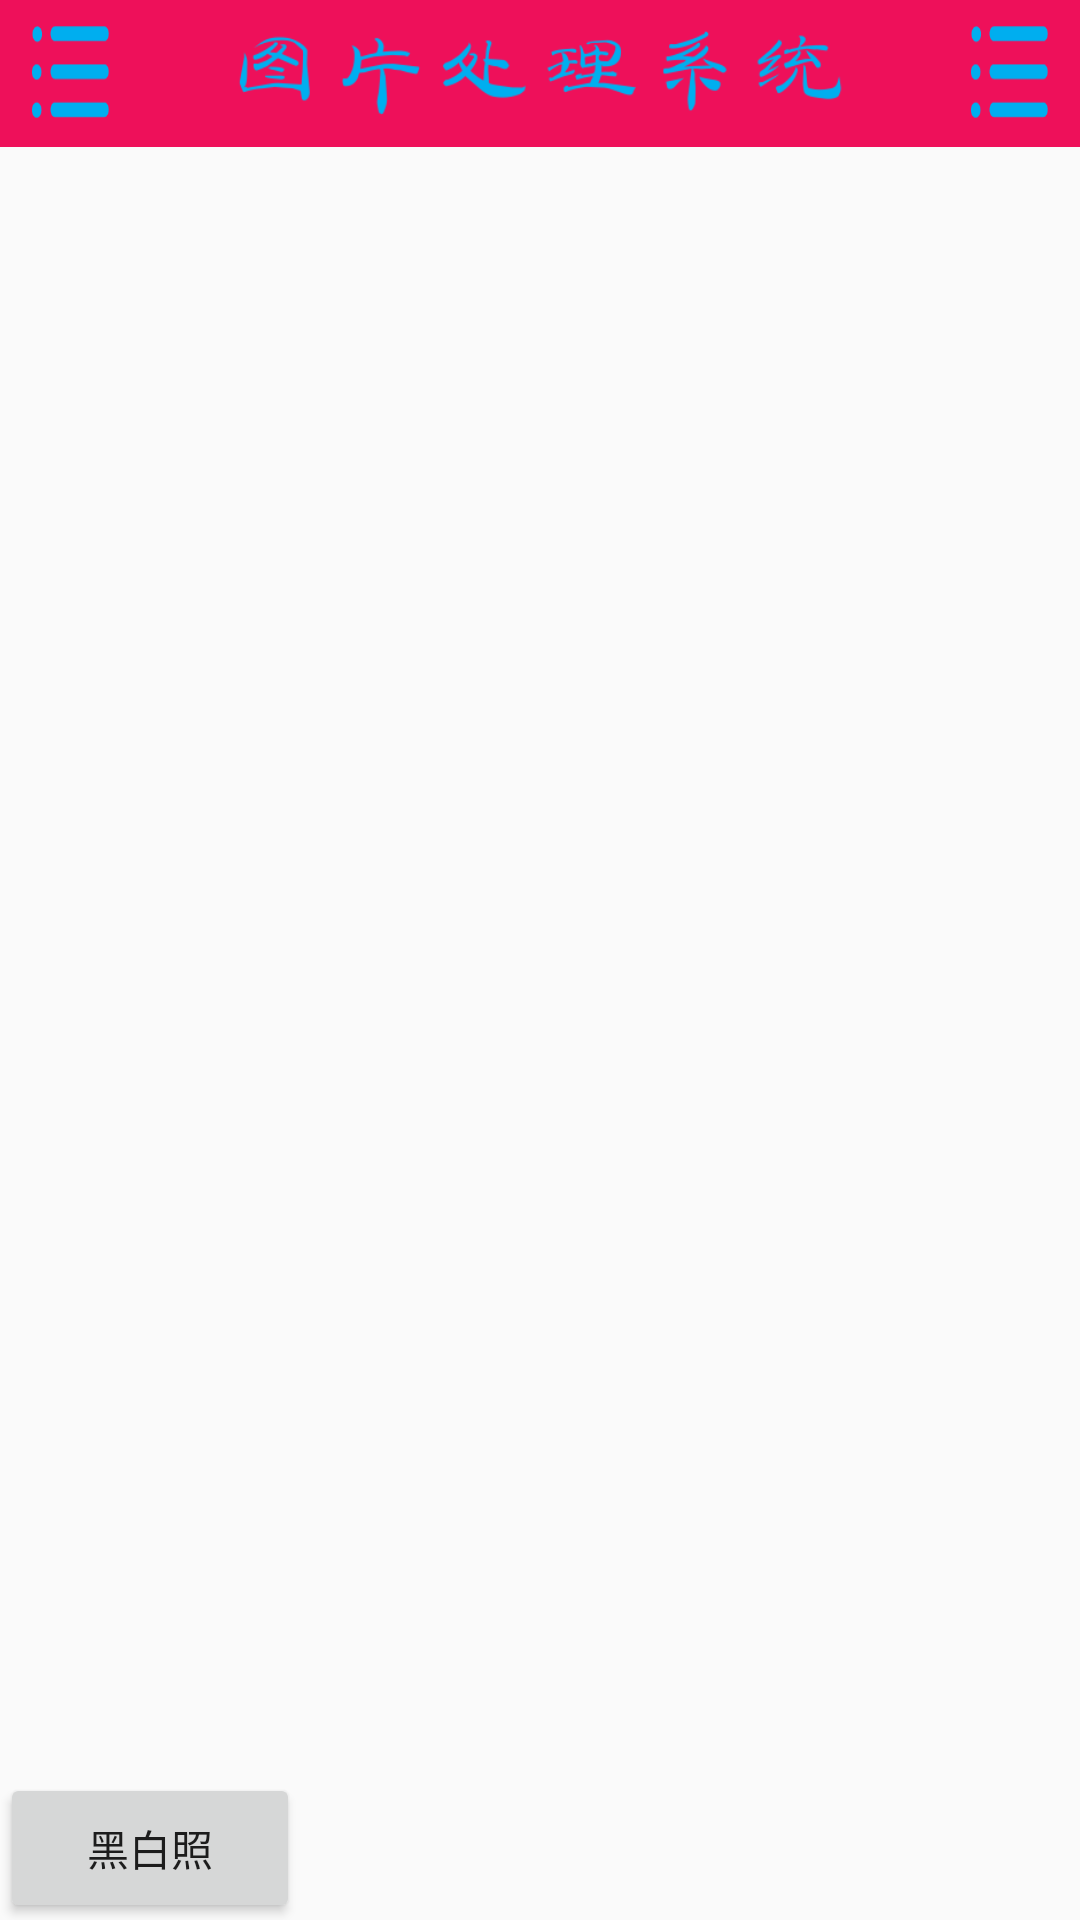

Where to tap for icons on this 1080 x 1920 app screen, as [x,y]:
maincaidan: [70,72], [1009,72]
